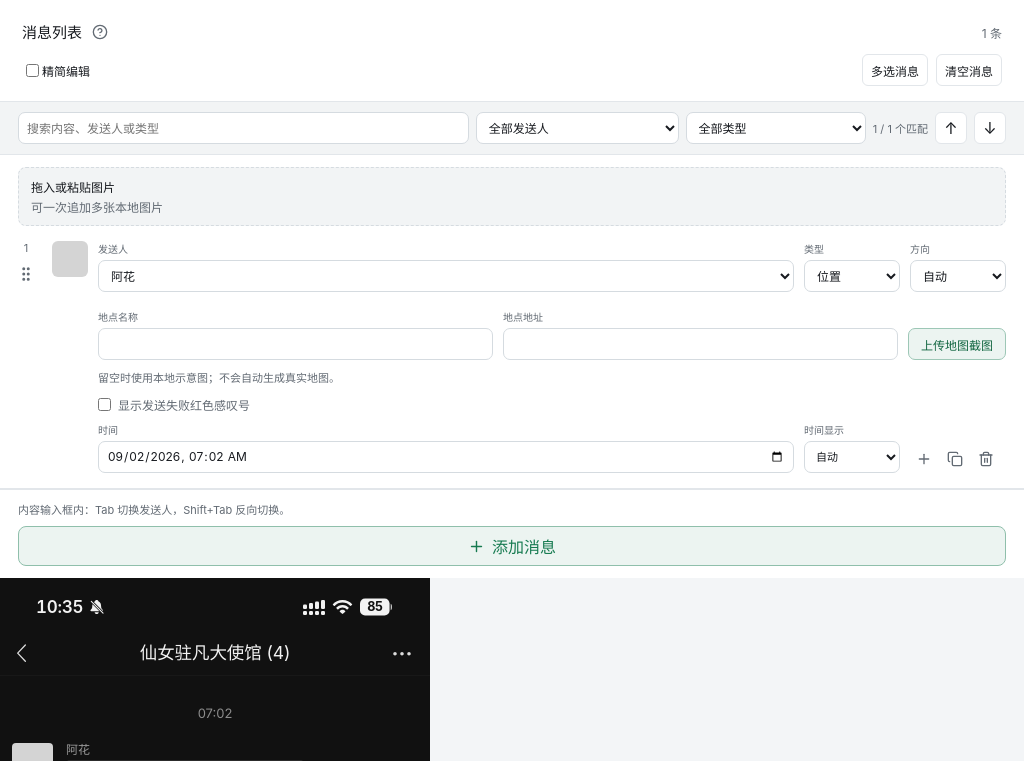
it: edits location payload and renders it
Type "测试内容" into the field labelled "地点名称" at {"x": 296, "y": 344}, box [98,328,493,360]
(page scrolled)
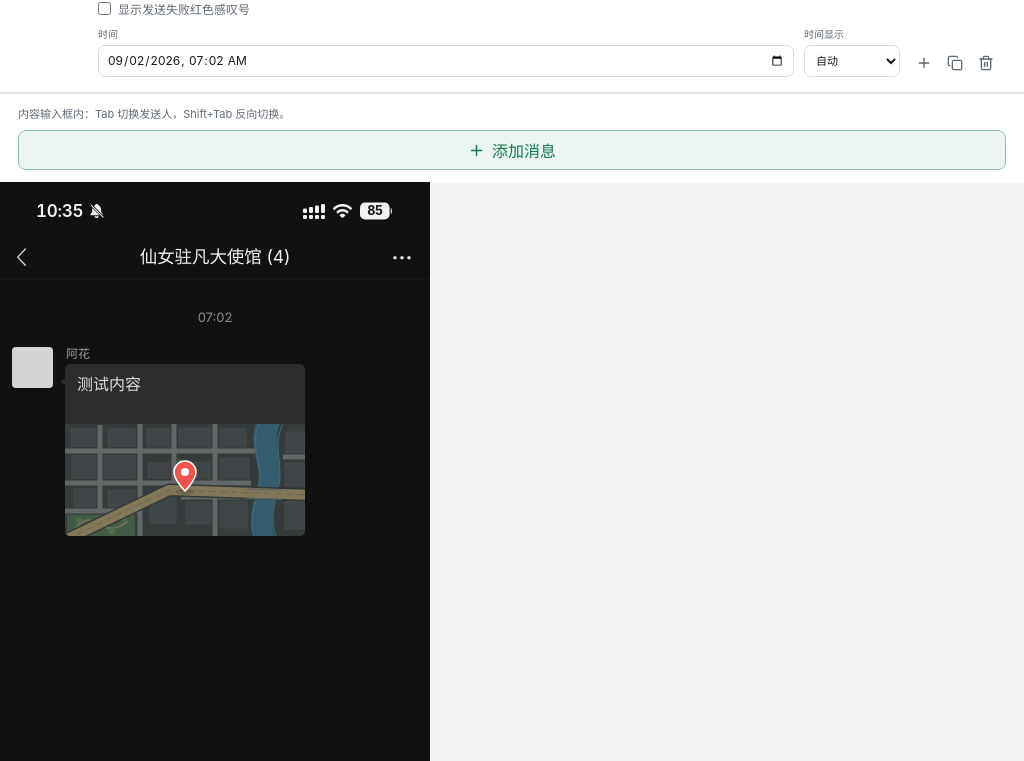
Check: the text "测试内容" is shown, box [77,374,141,394]
